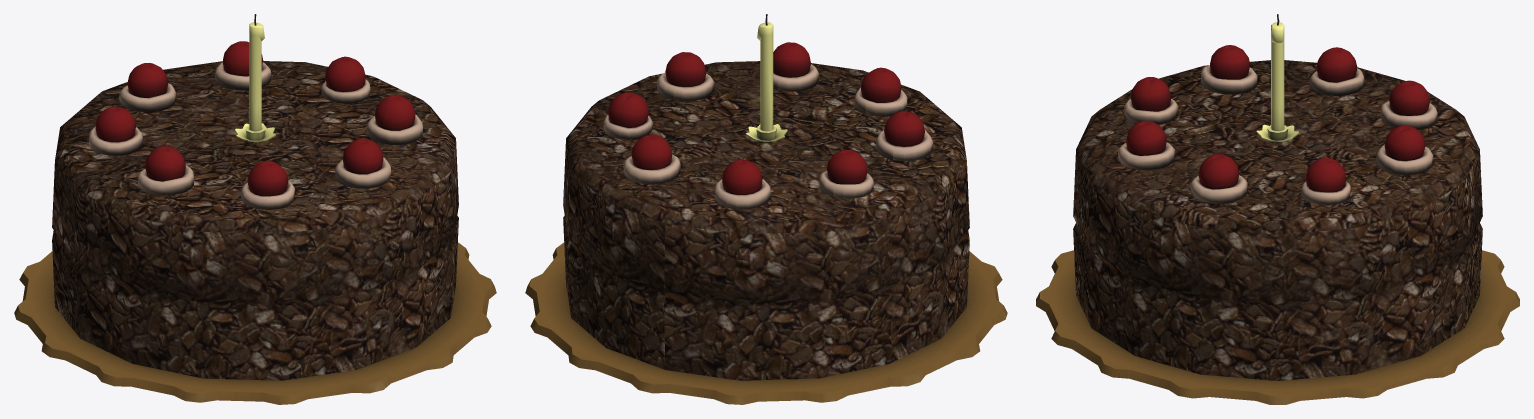
The model's file is cake.fbx.
The picture shows the model from 3 angles, left to right: view 1: azimuth 30°, elevation 25°; view 2: azimuth 150°, elevation 25°; view 3: azimuth 270°, elevation 25°; orthographic projection.
Parts seen in each view (by area): view 1: cake_reference; view 2: cake_reference; view 3: cake_reference.
Boxes of the visible parts, left/top/right/bottom form: cake_reference: left=14, top=14, right=496, bottom=404; cake_reference: left=525, top=14, right=1007, bottom=404; cake_reference: left=1036, top=14, right=1519, bottom=404.
Size of the model in its own units: 3687 by 3687 by 2425.
Materials: 1 (1 with a texture image).
